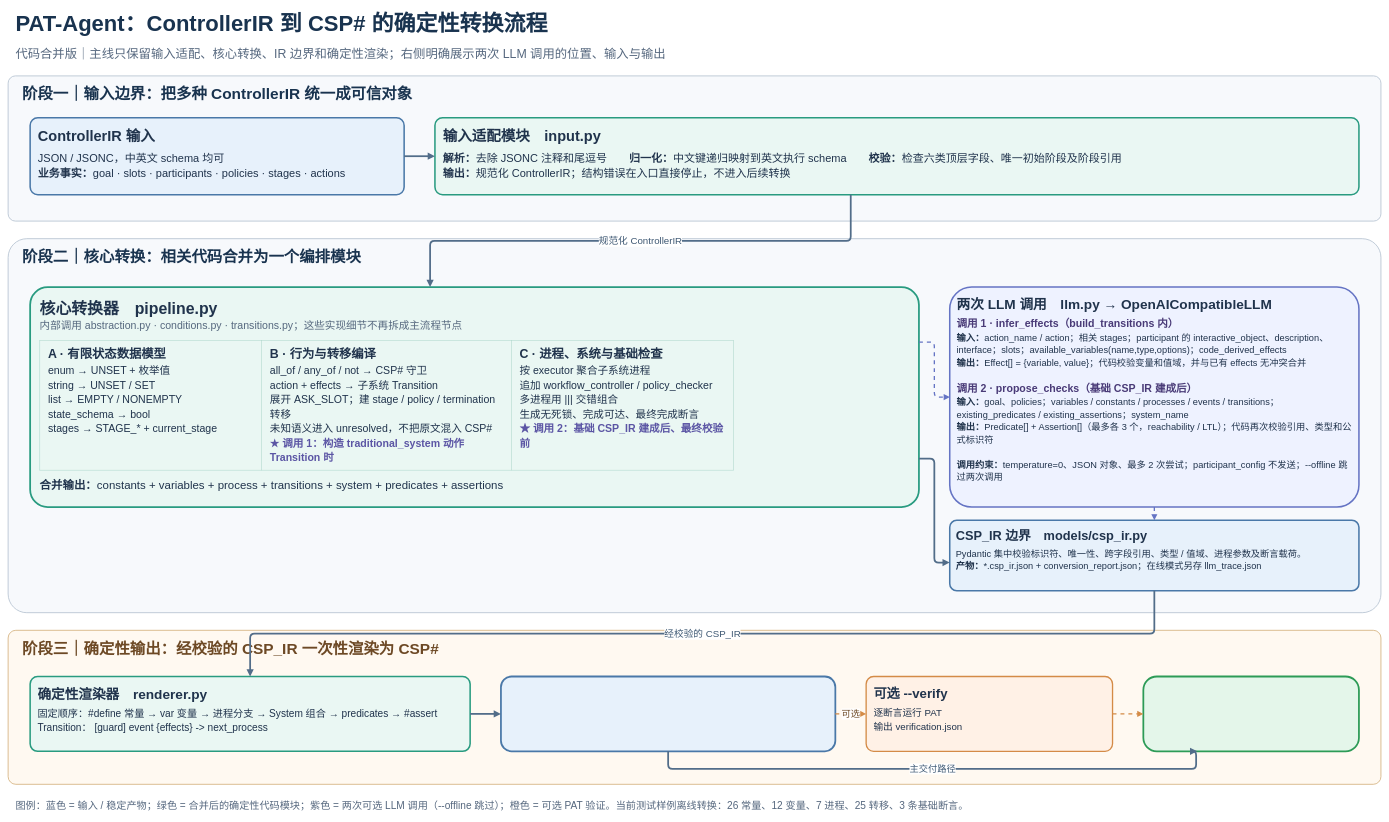
The diagram is 1389 pixels wide and 822 high, and some of its shapes have lost their labels. Here are the shapes that lost their labels. From the top down, the box of each, then its label:
(500, 675, 836, 752): 生成 *.csp 完整、可追溯的 CSP# 文本 不依赖 LLM 自由文本格式
(1142, 675, 1360, 752): CSP# + 可追溯产物 可直接交给 PAT 或后续修复流水线
